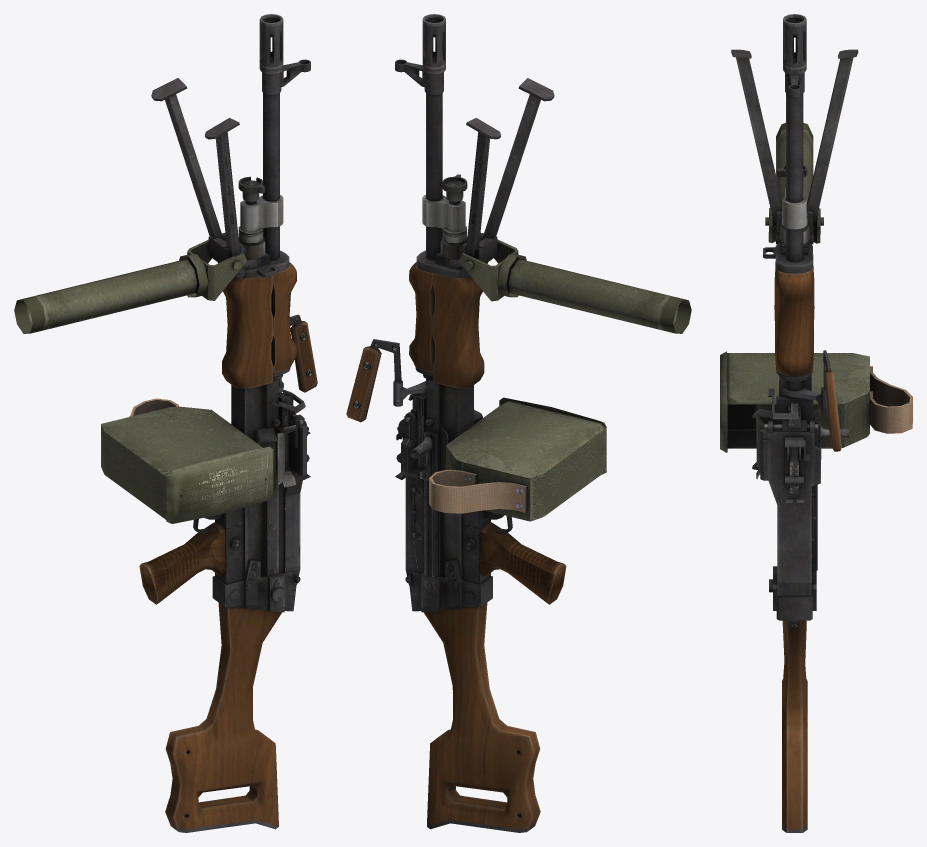
Rendered from lmg.fbx.
3 renders of one model, left to right at view 1: azimuth 30°, elevation 25°; view 2: azimuth 150°, elevation 25°; view 3: azimuth 270°, elevation 25°, orthographic.
Parts seen in each view (by area): view 1: mesh1; view 2: mesh1; view 3: mesh1.
Boxes of the visible parts, bbox=[...] form: mesh1: bbox=[14, 14, 317, 832]; mesh1: bbox=[346, 14, 691, 832]; mesh1: bbox=[720, 14, 912, 832].
Bounding box in the file's own units: 1724 × 4224 × 909.
